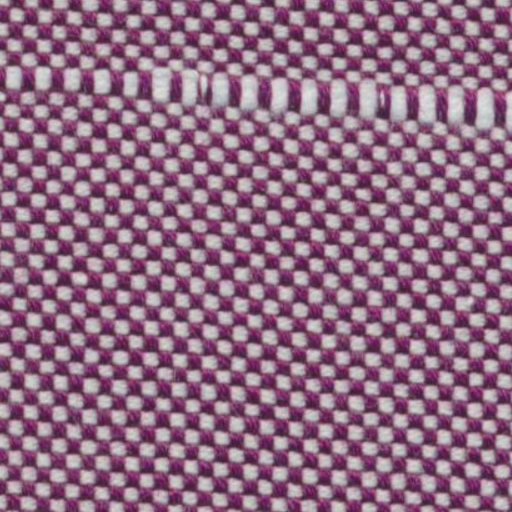DaiSha: (6, 47, 504, 163)
